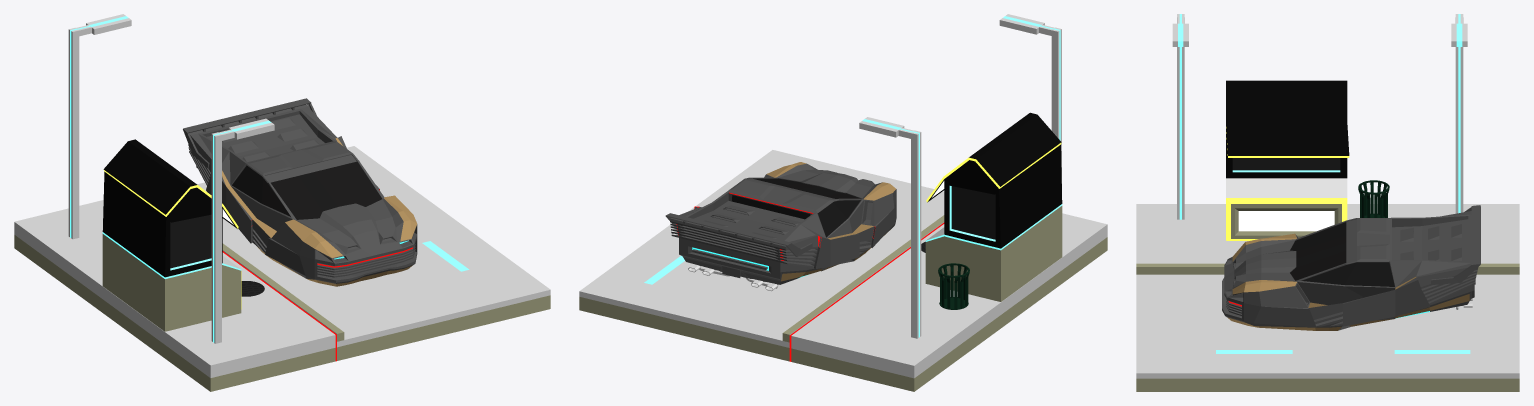
3 renders of one model, left to right at view 1: azimuth 30°, elevation 25°; view 2: azimuth 150°, elevation 25°; view 3: azimuth 270°, elevation 25°, orthographic. The views are drawn at different scales.
Parts seen in each view (by area): view 1: Plane, VoiturDecor; view 2: Plane, VoiturDecor; view 3: Plane, VoiturDecor.
Part boxes in pixels (x1,y1,x2,y2): Plane: [14, 14, 550, 391]; VoiturDecor: [183, 98, 417, 286]; Plane: [579, 14, 1107, 391]; VoiturDecor: [665, 162, 896, 291]; Plane: [1136, 14, 1519, 391]; VoiturDecor: [1222, 205, 1480, 330].
Bounding box in the file's own units: 1444 × 949 × 1444.
